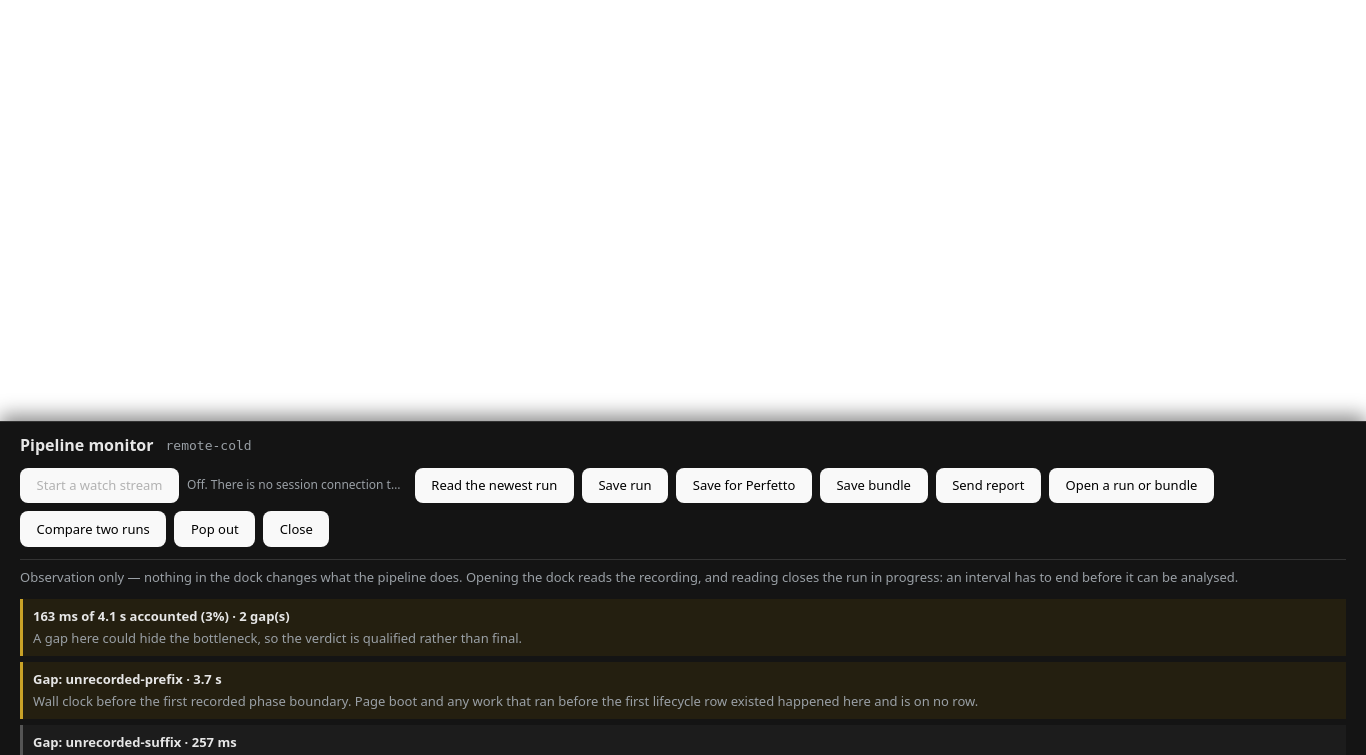
Scenario: saving a run › shows why a bundle could not be saved, where the file name would have been
Click the button with test id "monitor-save-bundle": (874, 485) [820,468,928,503]
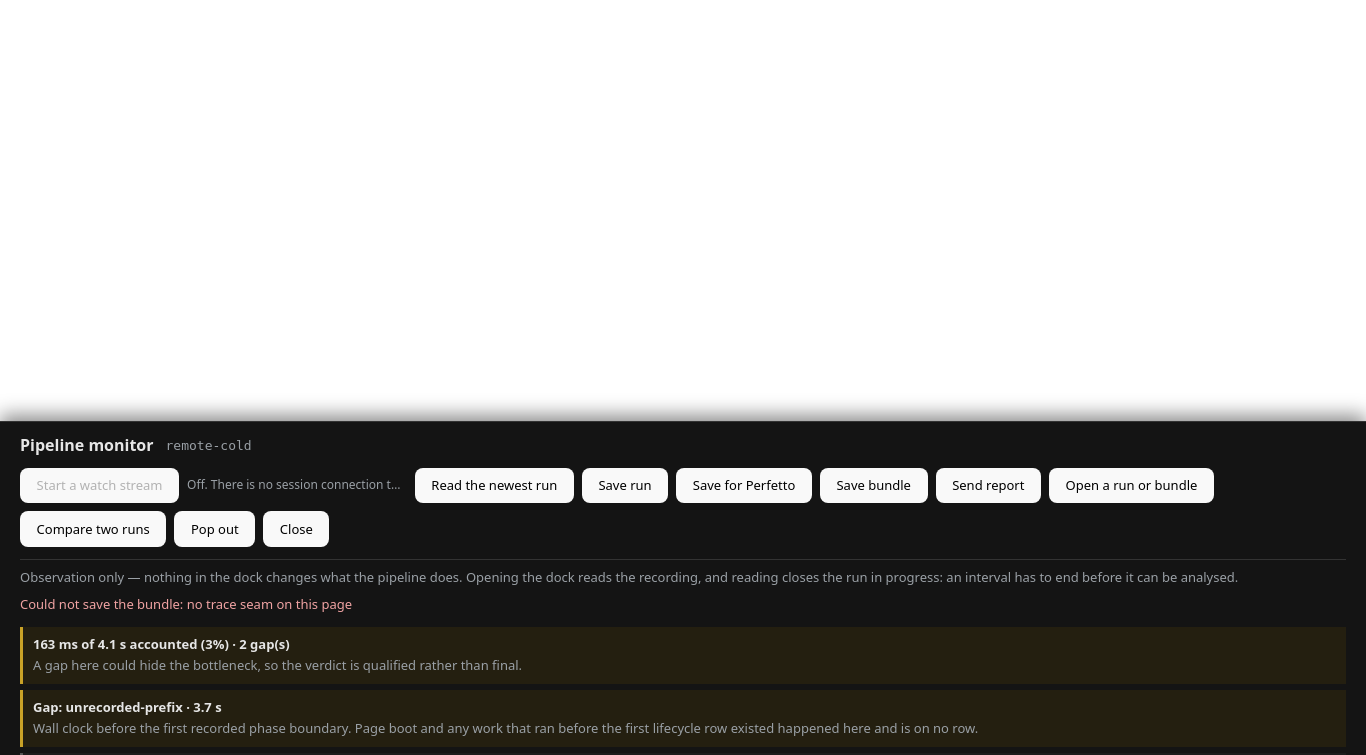
Result: the text with test id "monitor-save-failed" shows "no trace seam on this page" at [187,595,352,613]
